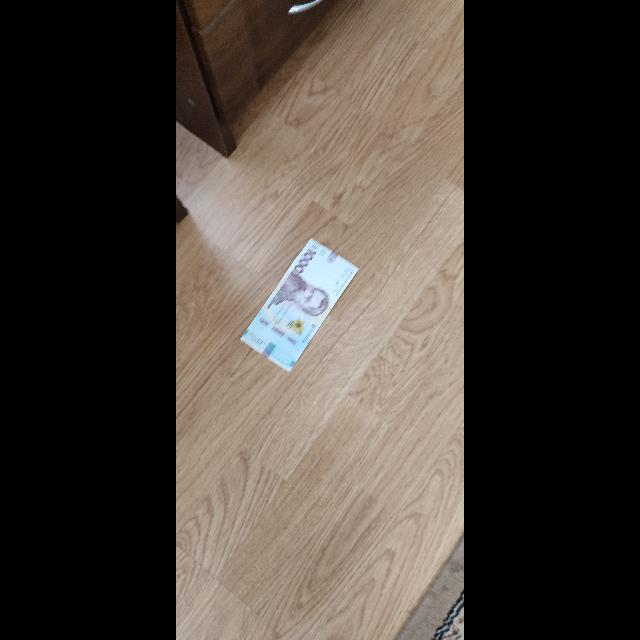1000uah: (241, 238, 357, 374)
